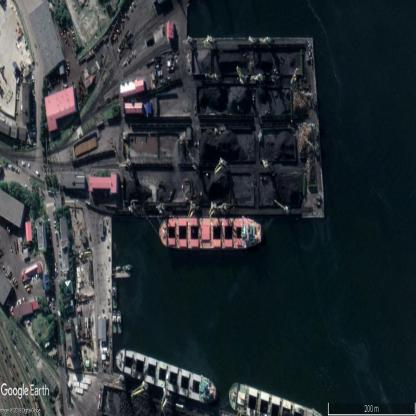ship: (115, 346, 216, 404), (158, 216, 261, 252), (229, 383, 320, 416)
